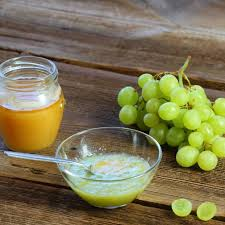Green grapes: (112, 62, 225, 166)
